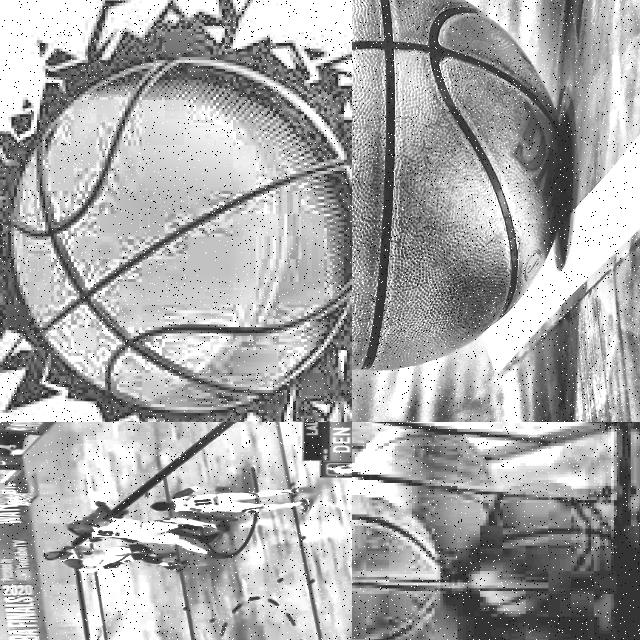Basketball: (11, 53, 352, 412), (352, 0, 559, 368), (0, 493, 5, 500)
